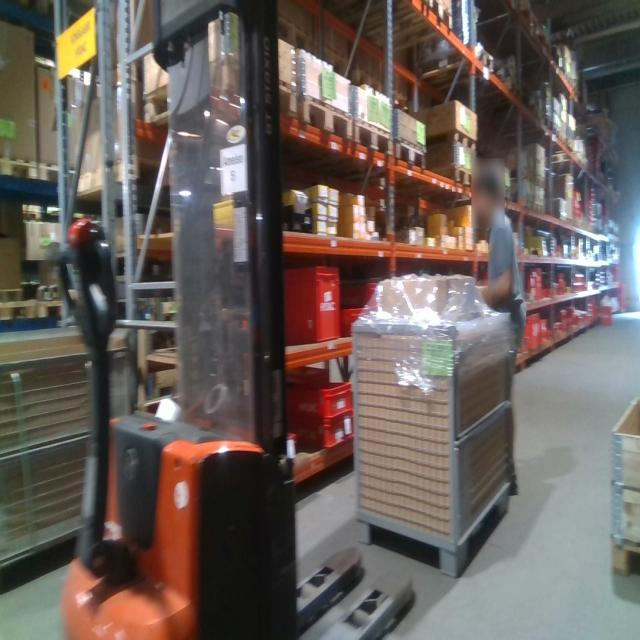pallet: (142, 52, 302, 127), (301, 95, 354, 140), (353, 117, 393, 157), (607, 536, 640, 580), (0, 153, 41, 180), (393, 141, 428, 171), (0, 298, 39, 324), (440, 127, 478, 151), (424, 0, 454, 29), (446, 165, 476, 187), (39, 165, 66, 183), (497, 186, 513, 200), (532, 202, 546, 215), (534, 176, 547, 188), (552, 126, 560, 138)
pallet_truck: (46, 2, 421, 636)
small_load_carrier: (277, 261, 344, 347), (287, 411, 356, 451), (293, 376, 356, 419), (284, 364, 328, 400), (345, 276, 386, 307), (338, 303, 370, 340), (520, 315, 542, 352), (598, 303, 611, 328), (540, 329, 552, 346), (538, 318, 547, 332)
stillage: (344, 261, 514, 574), (1, 315, 145, 586)
